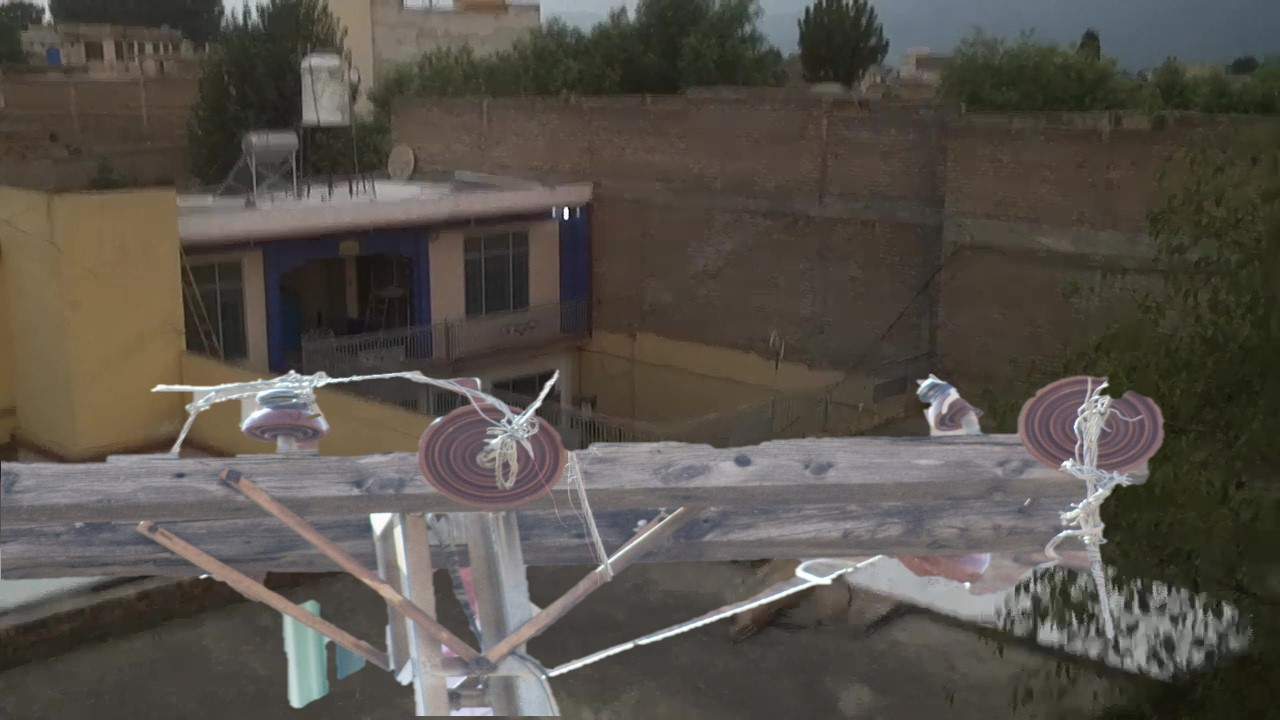defect_pin: (912, 364, 989, 442)
insulator_disc: (416, 393, 575, 510), (1014, 366, 1171, 475)
insulator_pin: (238, 376, 332, 446)
